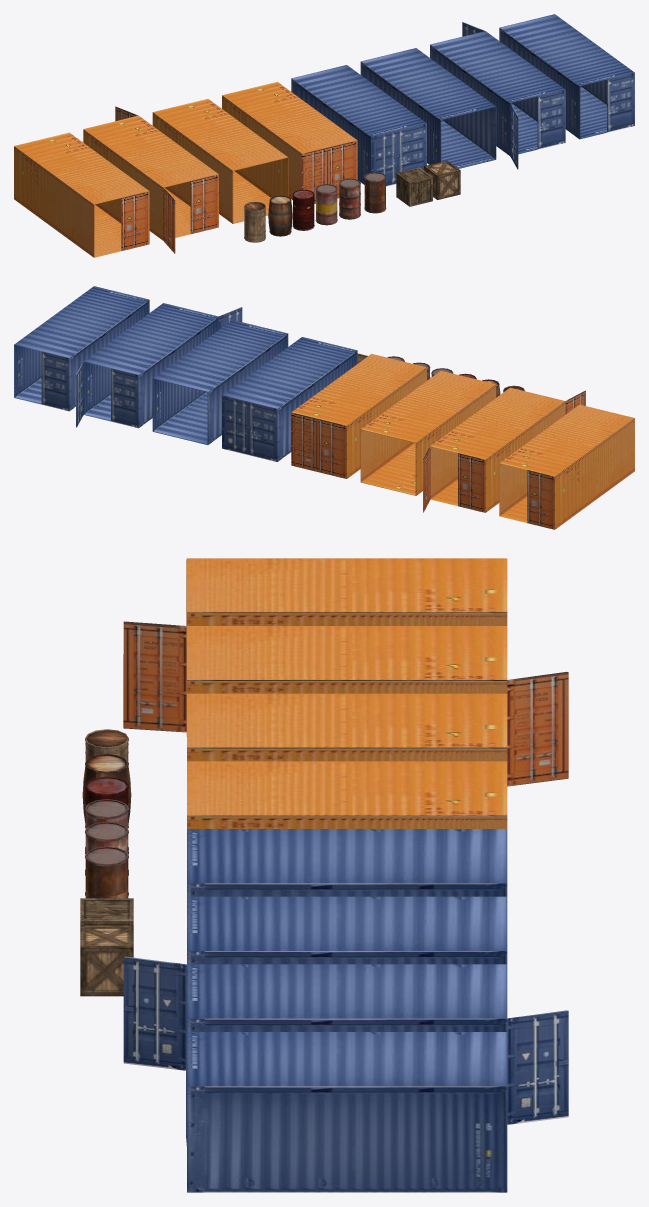
File: barrels_pack.glb
The picture shows the model from 3 angles, top to bottom: view 1: azimuth 30°, elevation 25°; view 2: azimuth 150°, elevation 25°; view 3: azimuth 270°, elevation 25°; orthographic projection. The views are drawn at different scales.
Visible parts, largest first — view 1: container.006_326, container.004_324, container.005_325, container.007_327, container.003_323, container.002_322, container.001_321, container_320, Cube.001_335, Cube_334, Cylinder.004_332, Cylinder.002_330 (+4 smaller); view 2: container.006_326, container.005_325, container.004_324, container.003_323, container_320, container.001_321, container.002_322, container.007_327; view 3: container.007_327, container.004_324, container.005_325, container.002_322, container.003_323, container.006_326, container_320, container.001_321, Cube_334, Cylinder.002_330, Cube.001_335, Cylinder.004_332 (+4 smaller).
Boxes of the visible parts, x1,y1,x2,y2 form: container.006_326: (14, 132, 149, 257); container.004_324: (83, 106, 218, 253); container.005_325: (430, 22, 565, 169); container.007_327: (499, 14, 634, 139); container.003_323: (360, 48, 496, 168); container.002_322: (152, 99, 288, 223); container.001_321: (291, 65, 426, 186); container_320: (222, 82, 357, 203); Cube.001_335: (396, 167, 432, 206); Cube_334: (424, 160, 460, 199); Cylinder.004_332: (268, 195, 292, 236); Cylinder.002_330: (364, 172, 386, 213); container.006_326: (499, 404, 634, 529); container.005_325: (76, 303, 242, 428); container.004_324: (423, 387, 585, 512); container.003_323: (152, 320, 288, 444); container_320: (291, 354, 426, 478); container.001_321: (222, 337, 357, 461); container.002_322: (360, 371, 496, 495); container.007_327: (14, 286, 149, 411); container.007_327: (186, 1032, 507, 1192); container.004_324: (123, 621, 568, 786); container.005_325: (123, 956, 568, 1124); container.002_322: (187, 693, 507, 761); container.003_323: (187, 896, 507, 964); container.006_326: (186, 558, 507, 625); container_320: (187, 761, 507, 828); container.001_321: (187, 829, 507, 896); Cube_334: (80, 925, 133, 996); Cylinder.002_330: (85, 846, 128, 898); Cube.001_335: (80, 898, 133, 925); Cylinder.004_332: (82, 754, 131, 827).
Size of the model in its own units: 23.4 by 2.2 by 9.15.
2 materials, 2 textured.
